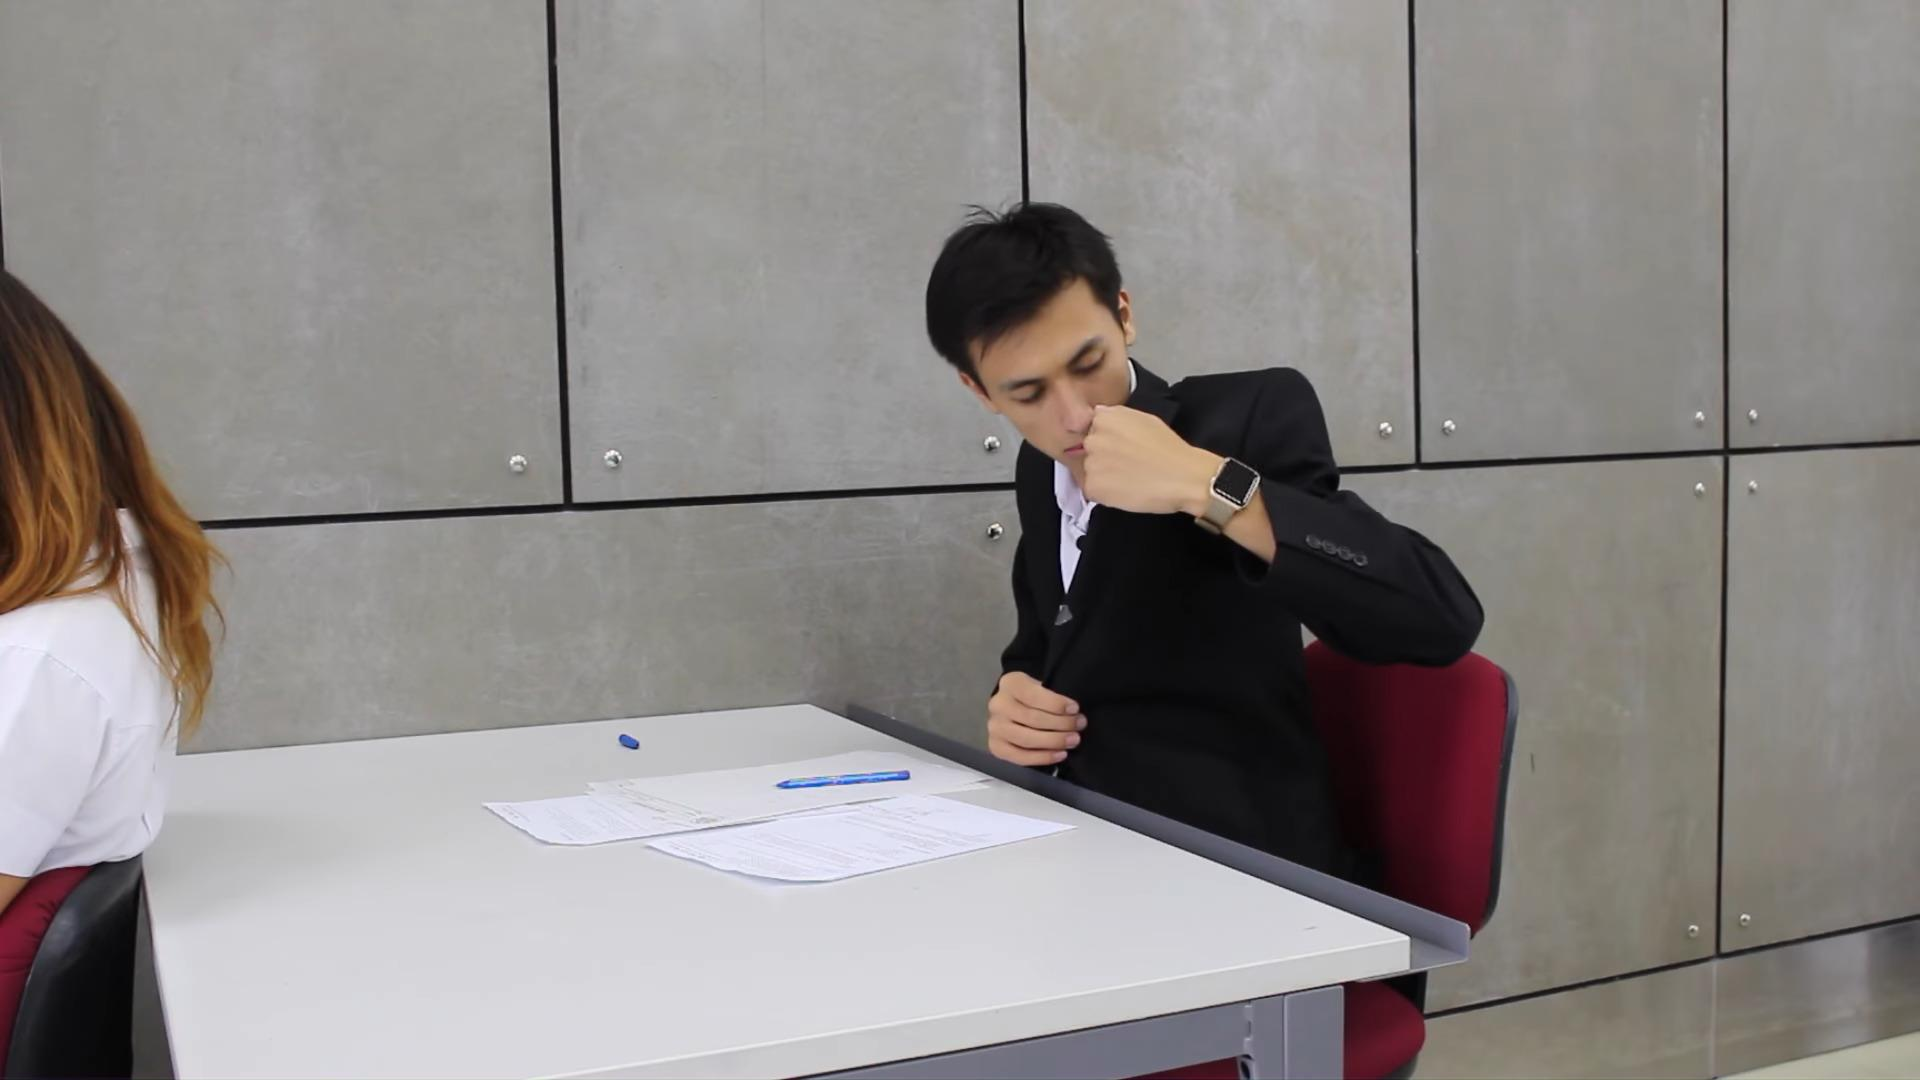cheating: (460, 183, 1503, 913)
